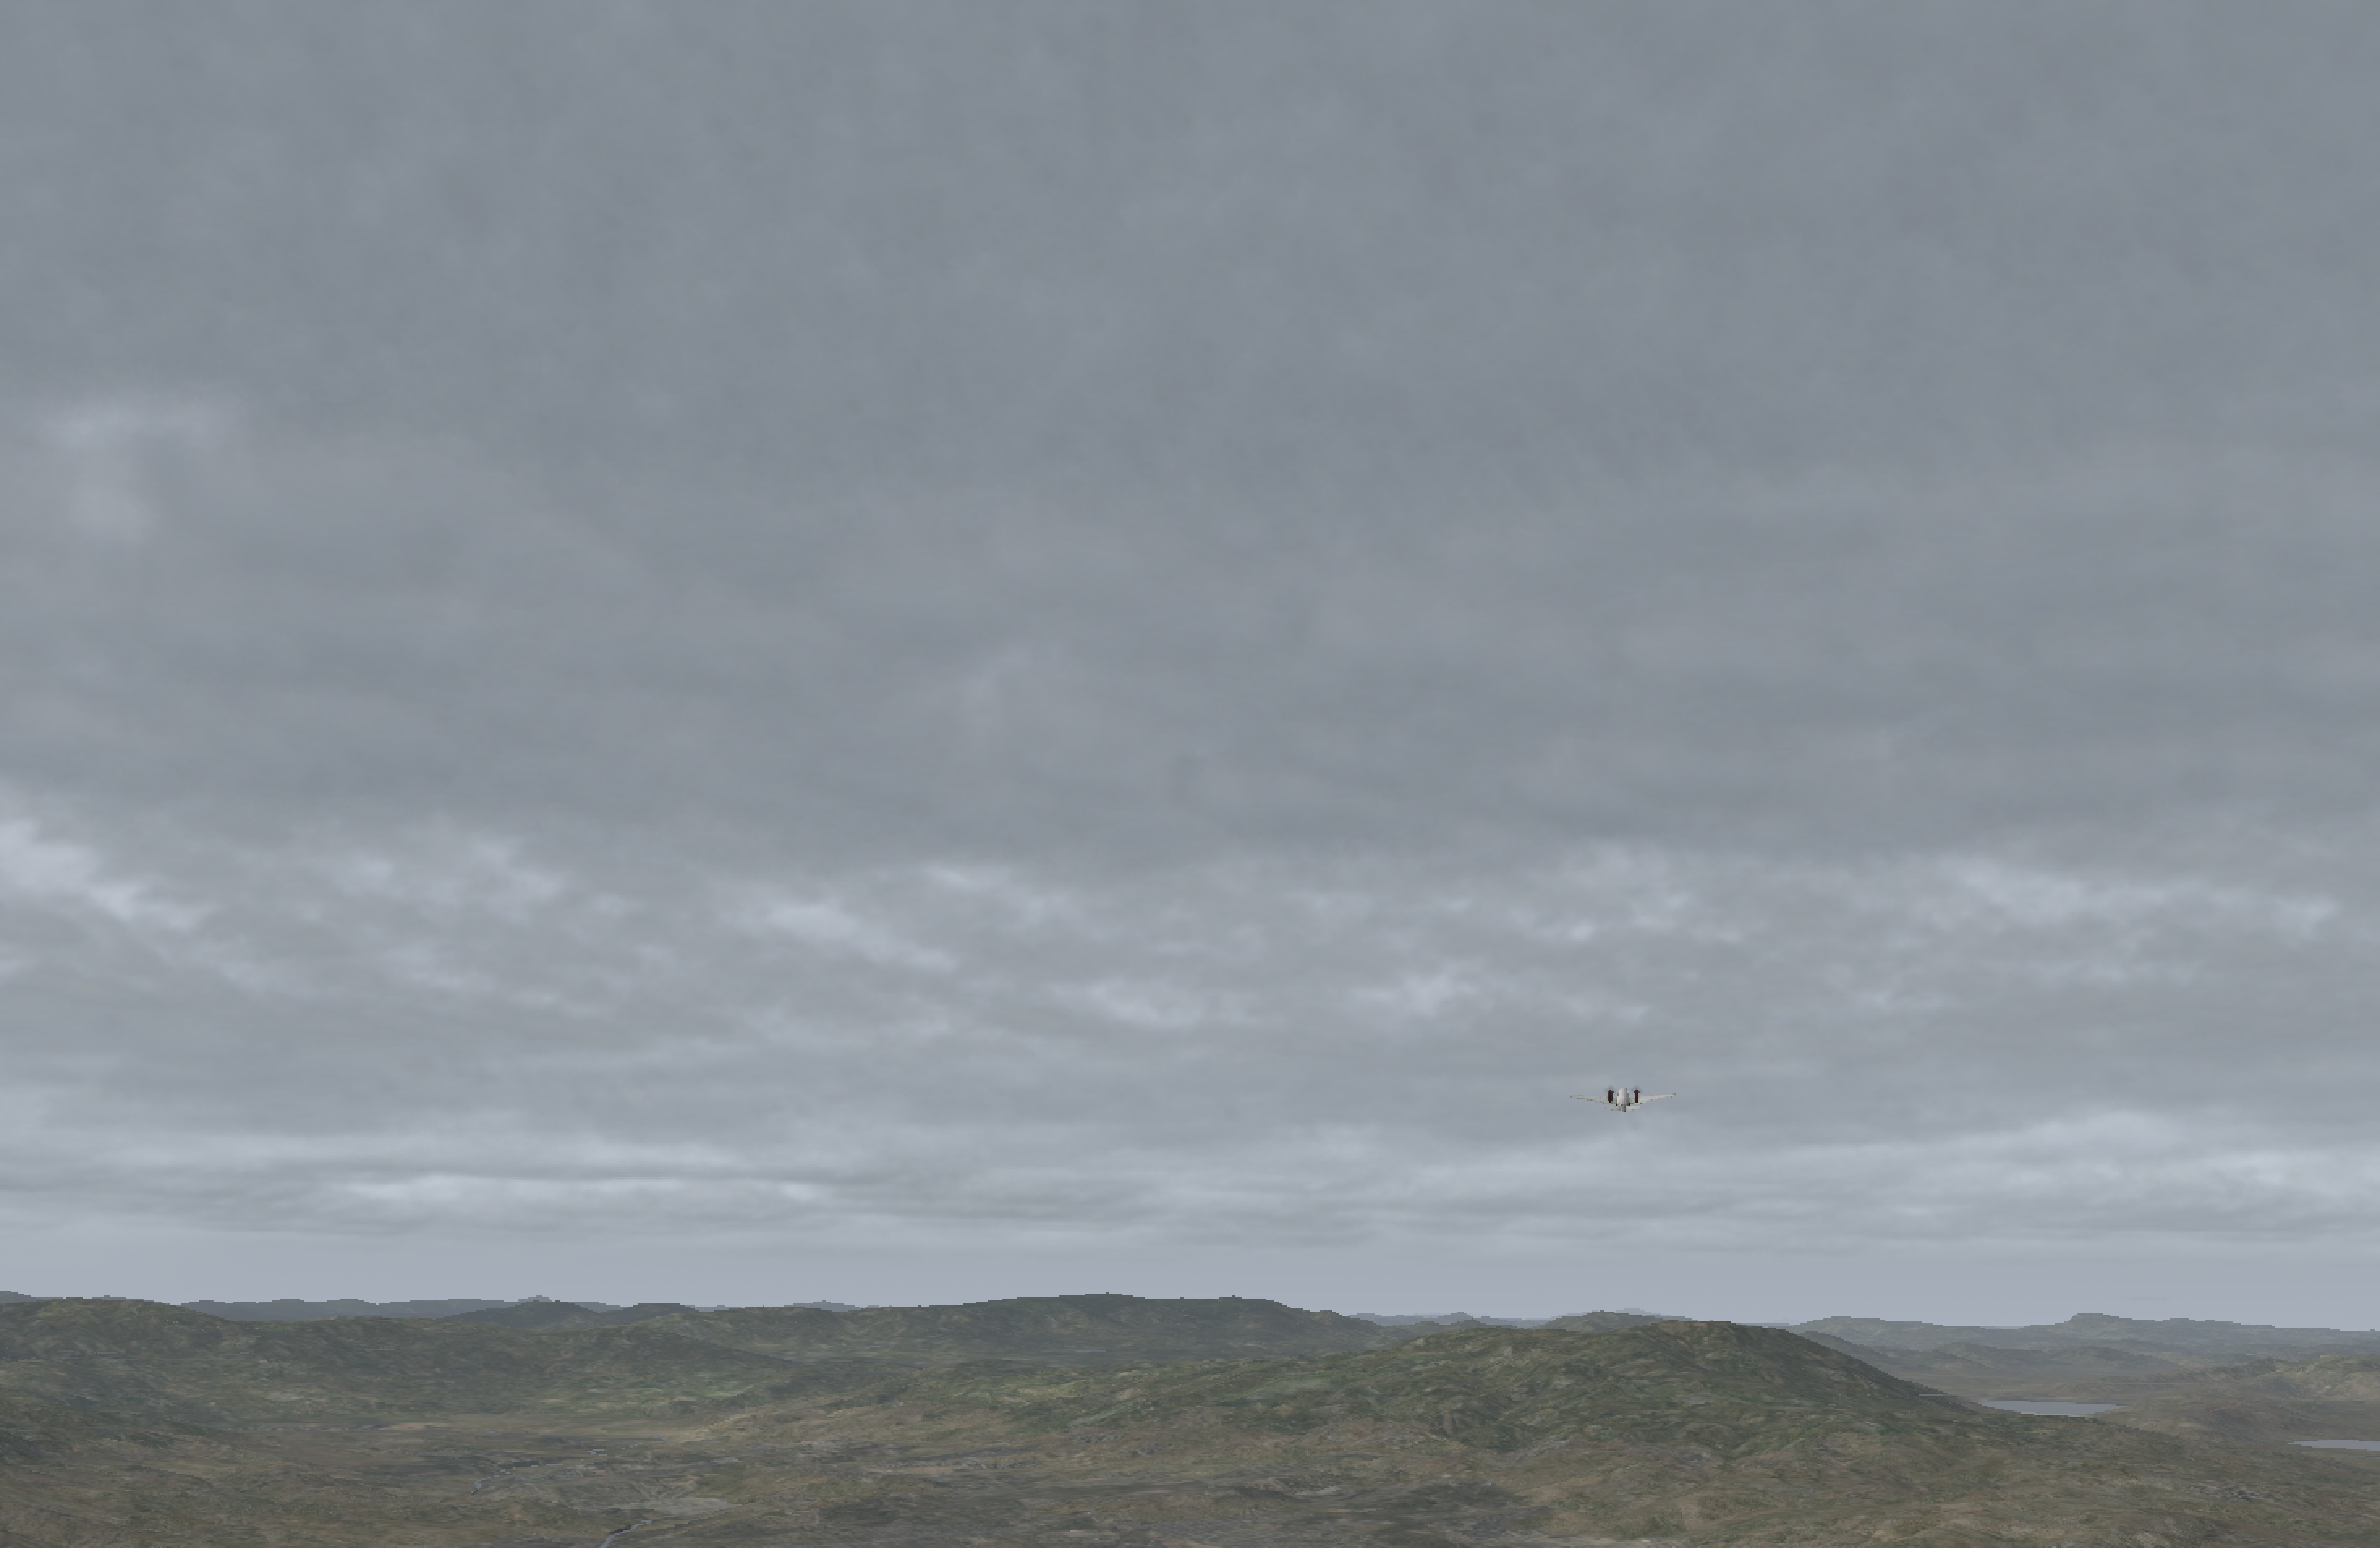aircraft: (1573, 1081, 1674, 1119)
